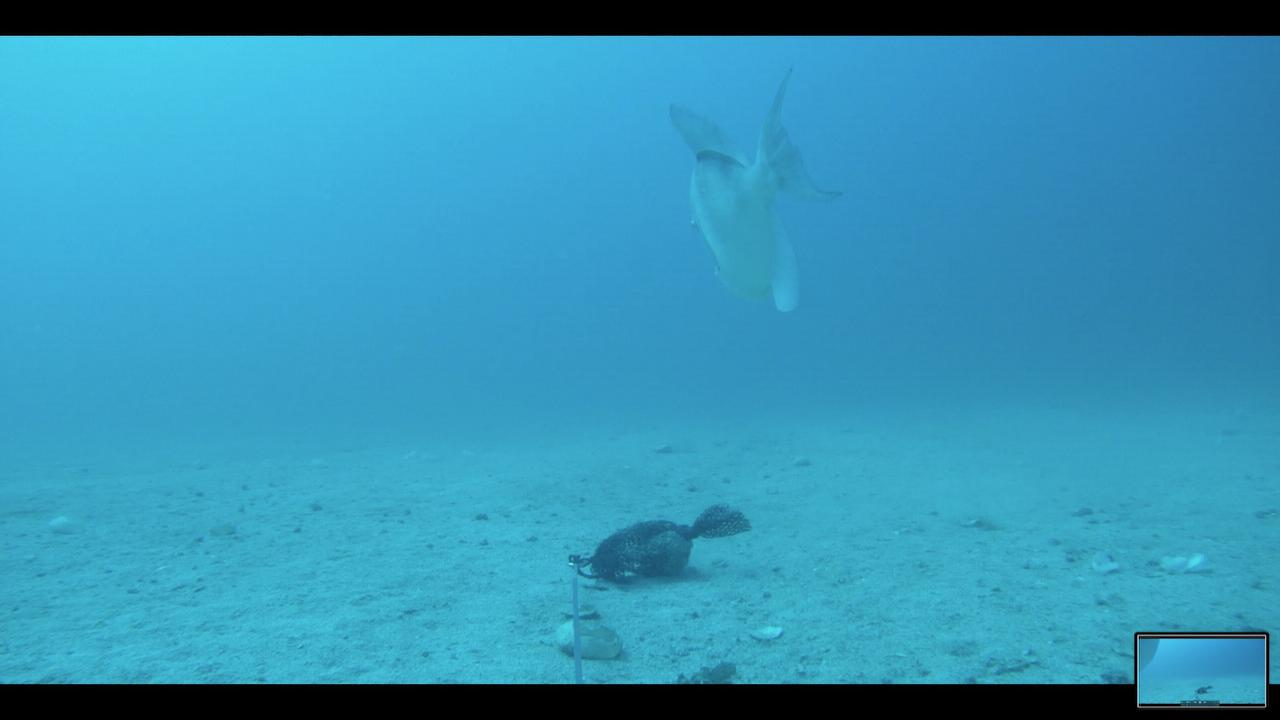balistes: (665, 56, 844, 316)
